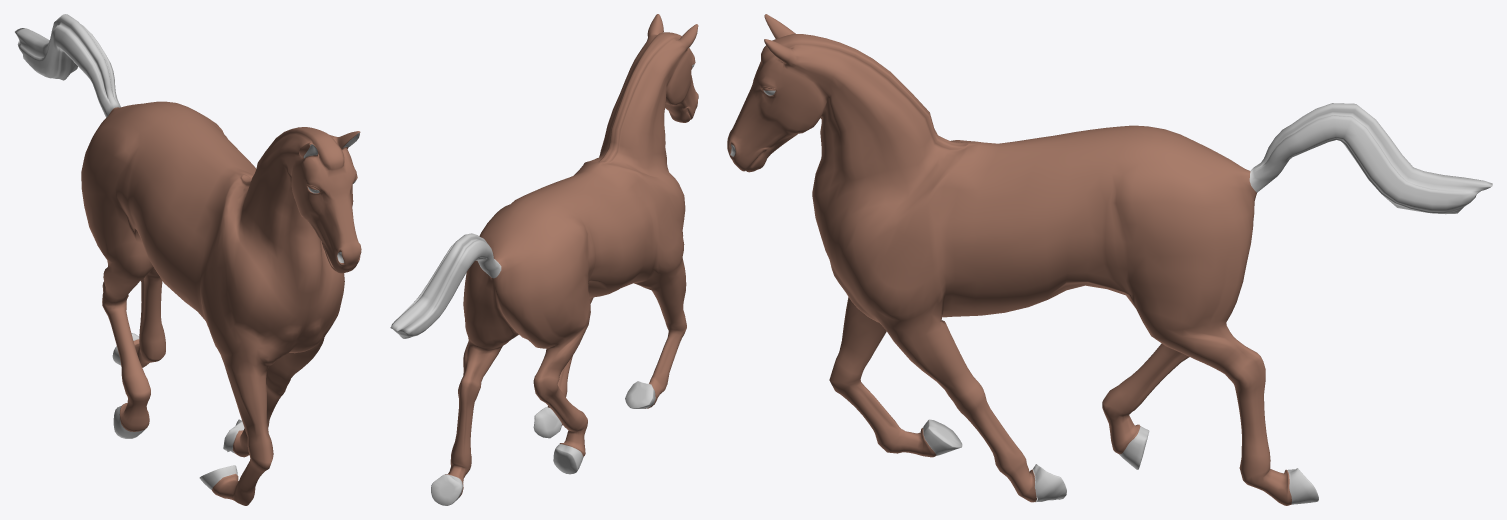
Rendered from horse_obj_3.obj.
3 views of the same model, side by side, from view 1: azimuth 30°, elevation 25°; view 2: azimuth 150°, elevation 25°; view 3: azimuth 270°, elevation 25° (orthographic). The views are drawn at different scales.
Parts seen in each view (by area): view 1: Figure_1; view 2: Figure_1; view 3: Figure_1.
Part boxes in pixels (x1=…): Figure_1: x1=15, y1=14, x2=361, y2=505; Figure_1: x1=390, y1=14, x2=698, y2=505; Figure_1: x1=727, y1=14, x2=1492, y2=505.
Bounding box in the file's own units: 0.2421 × 0.772 × 1.16.
